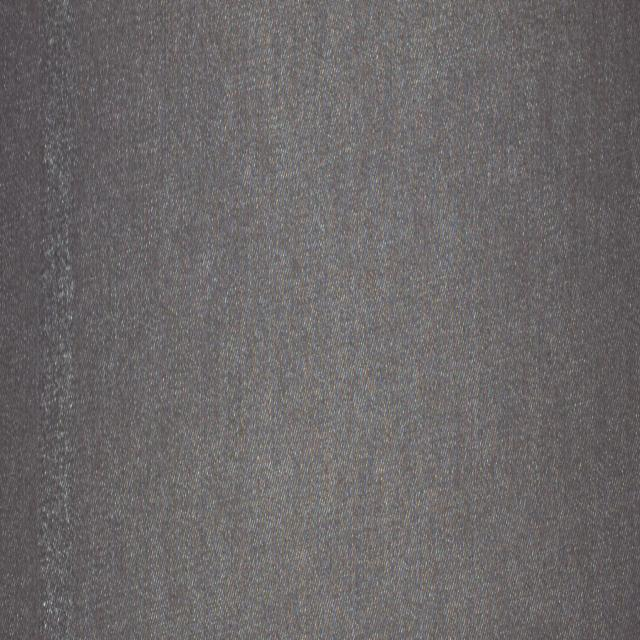defect: (37, 63, 78, 634)
